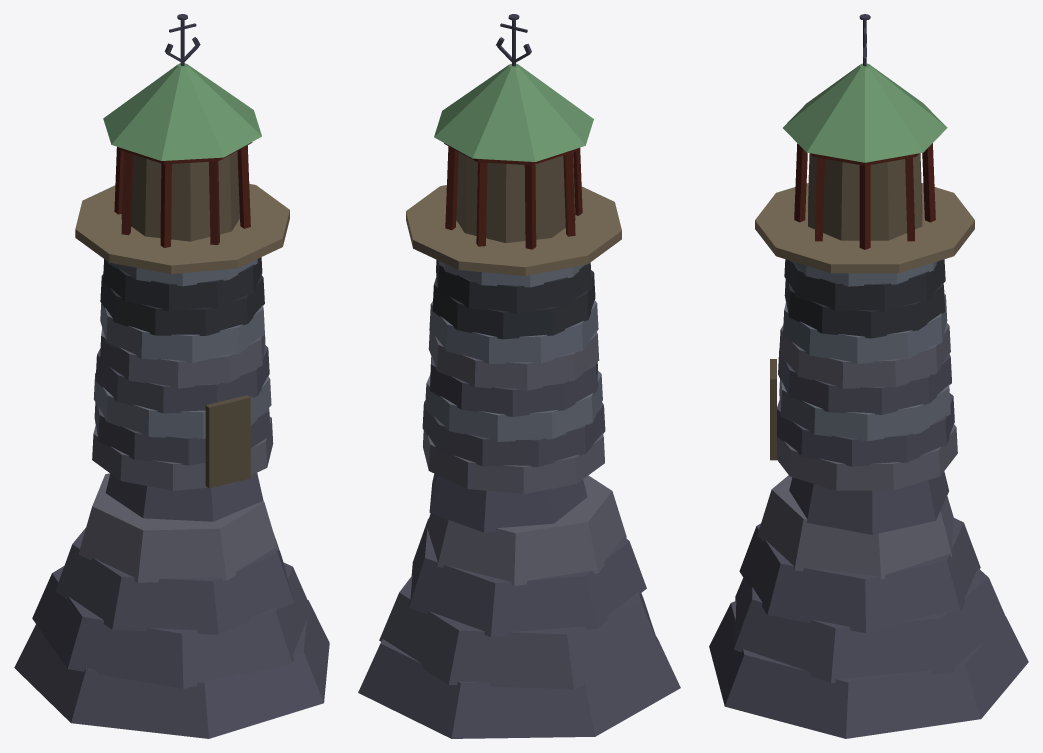
The model's file is wrack_light.glb.
3 renders of one model, left to right at view 1: azimuth 30°, elevation 25°; view 2: azimuth 150°, elevation 25°; view 3: azimuth 270°, elevation 25°, orthographic.
Visible parts, largest first — view 1: ink_l22, ink_l30, moss_l5, slate_d5, driftwood_d40, slate_d55, driftwood_d50, coal_d55, driftwood_d55, ink_l15; view 2: ink_l22, ink_l30, slate_d5, moss_l5, driftwood_d40, slate_d55, driftwood_d50, coal_d55, ink_l15; view 3: ink_l22, ink_l30, slate_d5, moss_l5, driftwood_d40, slate_d55, driftwood_d50, coal_d55, driftwood_d55.
Part boxes in pixels (box(x1,y1,x2,y2)): ink_l22: box(14, 345, 329, 738); ink_l30: box(78, 327, 278, 582); moss_l5: box(103, 63, 261, 160); slate_d5: box(93, 259, 271, 438); driftwood_d40: box(75, 184, 289, 274); slate_d55: box(100, 257, 264, 335); driftwood_d50: box(121, 151, 239, 241); coal_d55: box(114, 142, 252, 247); driftwood_d55: box(205, 395, 250, 488); ink_l15: box(164, 14, 200, 65); ink_l22: box(358, 355, 680, 738); ink_l30: box(423, 331, 626, 586); slate_d5: box(425, 262, 602, 441); moss_l5: box(434, 63, 593, 161); driftwood_d40: box(406, 185, 621, 275); slate_d55: box(432, 259, 595, 339); driftwood_d50: box(456, 152, 575, 242); coal_d55: box(444, 143, 582, 249); ink_l15: box(496, 14, 531, 66); ink_l22: box(709, 348, 1028, 738); ink_l30: box(757, 323, 957, 579); slate_d5: box(779, 260, 950, 441); moss_l5: box(783, 63, 947, 162); driftwood_d40: box(755, 183, 974, 273); slate_d55: box(784, 259, 945, 338); driftwood_d50: box(808, 153, 922, 240); coal_d55: box(794, 143, 935, 249); driftwood_d55: box(770, 359, 776, 460).
Bounding box in the file's own units: 4.65 × 10.51 × 4.65.
